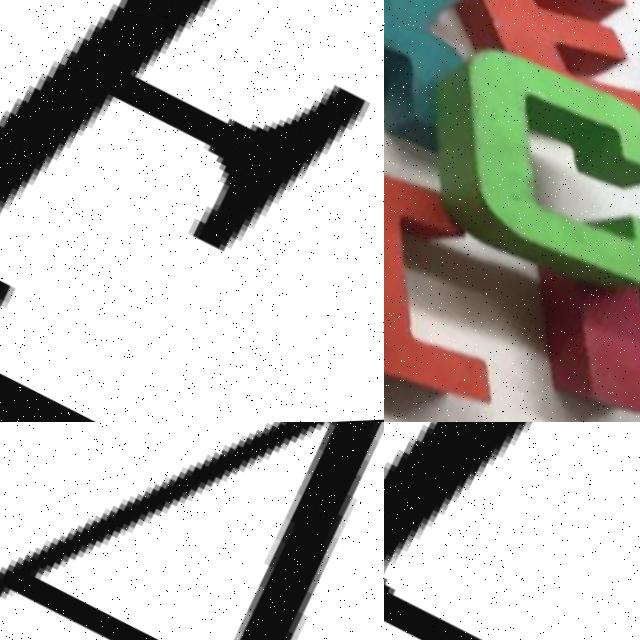A: (0, 422, 384, 640), (488, 196, 640, 422)
B: (610, 12, 640, 243)
C: (384, 4, 640, 357)
E: (411, 0, 640, 162)
F: (0, 0, 384, 422)
I: (384, 79, 522, 422)
K: (384, 0, 522, 188)
L: (384, 422, 640, 640)
